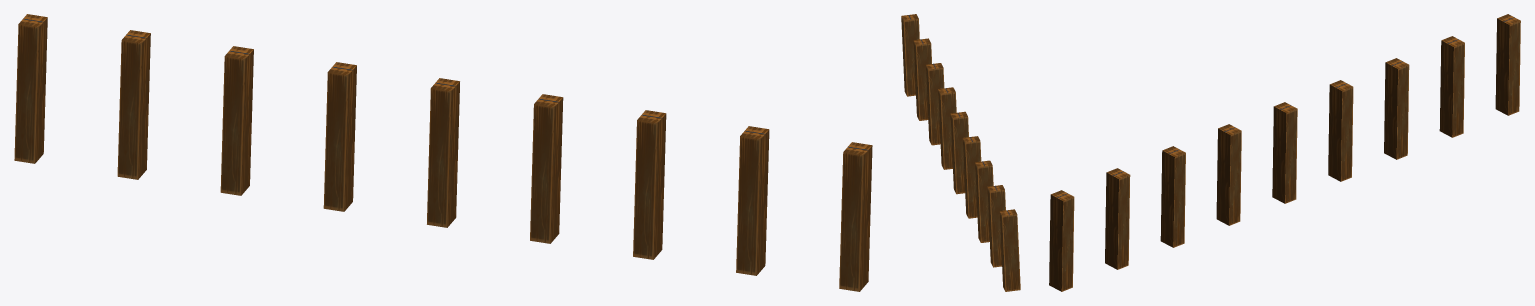
3 renders of one model, left to right at view 1: azimuth 30°, elevation 25°; view 2: azimuth 150°, elevation 25°; view 3: azimuth 270°, elevation 25°, orthographic. The views are drawn at different scales.
Visible parts, largest first — view 1: Cube.726; view 2: Cube.726; view 3: Cube.726.
Boxes of the visible parts, x1,y1,x2,y2 form: Cube.726: [14, 14, 872, 291]; Cube.726: [901, 14, 1020, 291]; Cube.726: [1049, 14, 1520, 291].
Size of the model in its own units: 545 by 144 by 605.
1 material, 1 textured.
